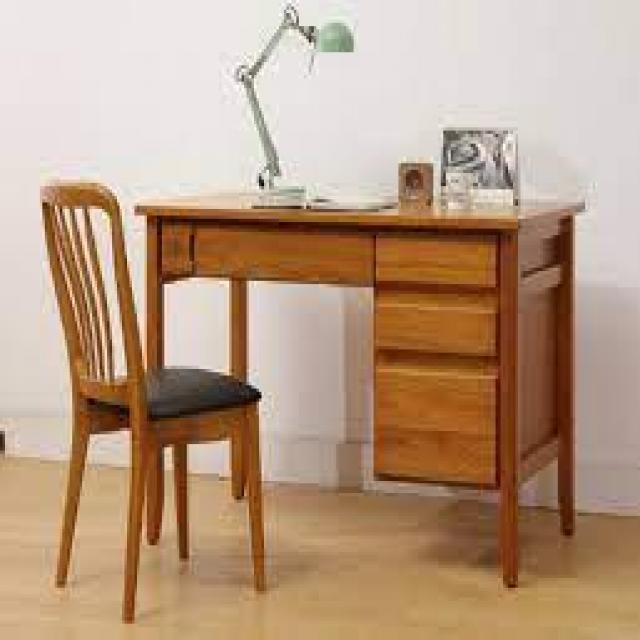desk: (29, 96, 594, 606)
